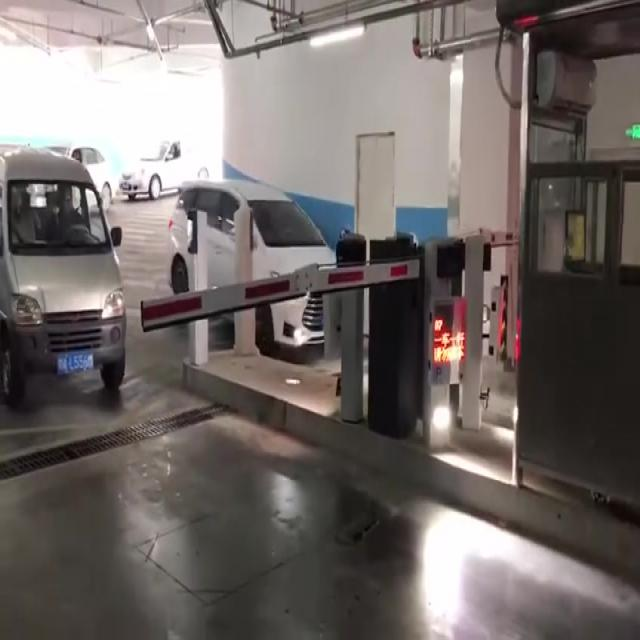CarIn: (1, 140, 144, 423), (154, 171, 363, 345), (123, 80, 210, 220)
GateClosed: (135, 228, 433, 363), (427, 209, 535, 287)
